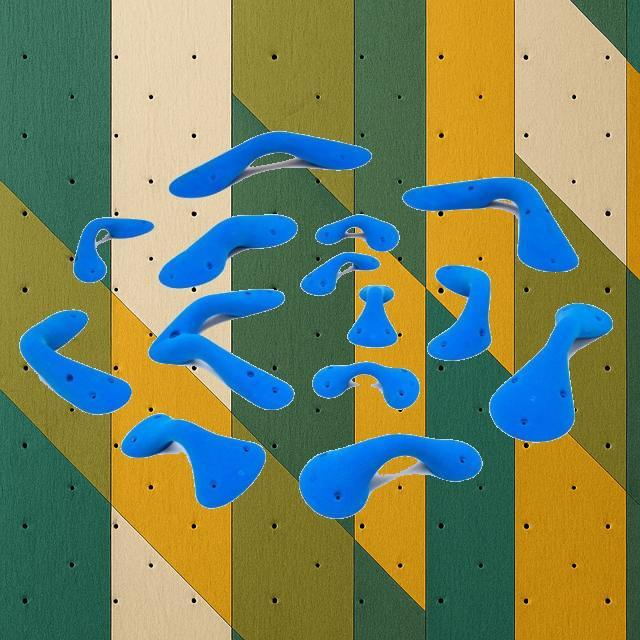Jug: (148, 288, 294, 410), (489, 302, 613, 442), (402, 175, 578, 272), (298, 434, 482, 518), (120, 412, 266, 508), (168, 130, 372, 198), (18, 308, 132, 416), (158, 213, 298, 289), (426, 264, 492, 360), (73, 216, 153, 282), (312, 361, 420, 409), (301, 252, 381, 296), (347, 284, 397, 348), (317, 216, 399, 250)
